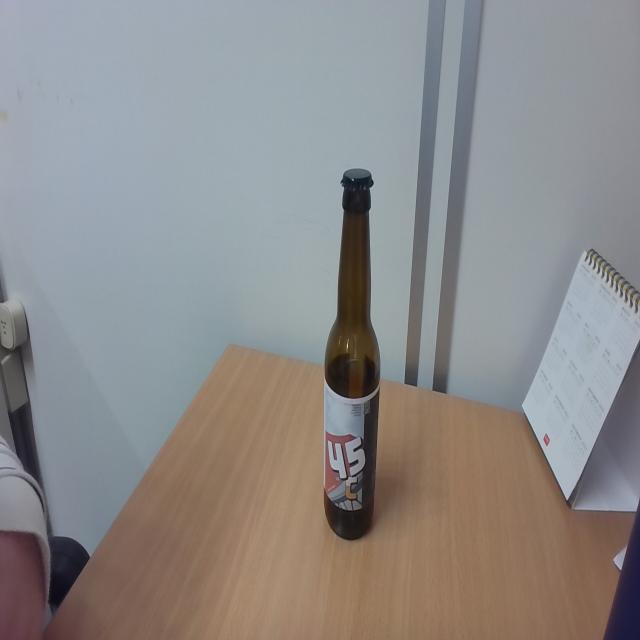Bottle: (323, 165, 382, 539)
Cap: (338, 166, 376, 196)
Label: (324, 386, 378, 515)
